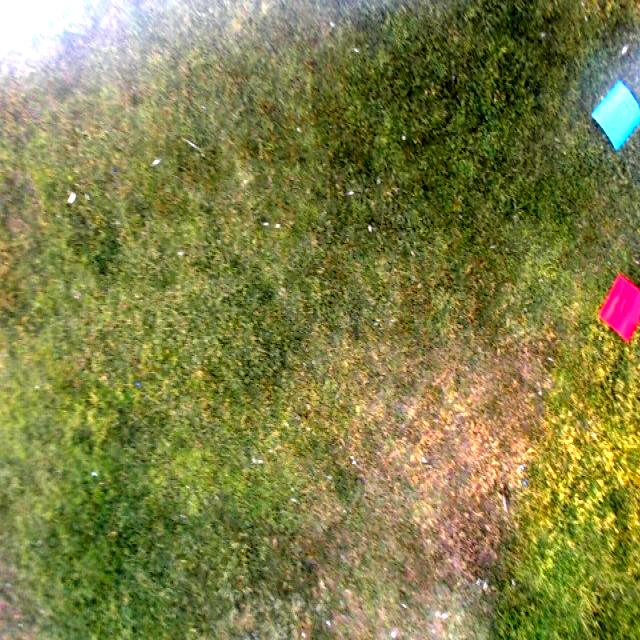blue_square: (592, 83, 640, 150)
red_square: (597, 275, 640, 346)
